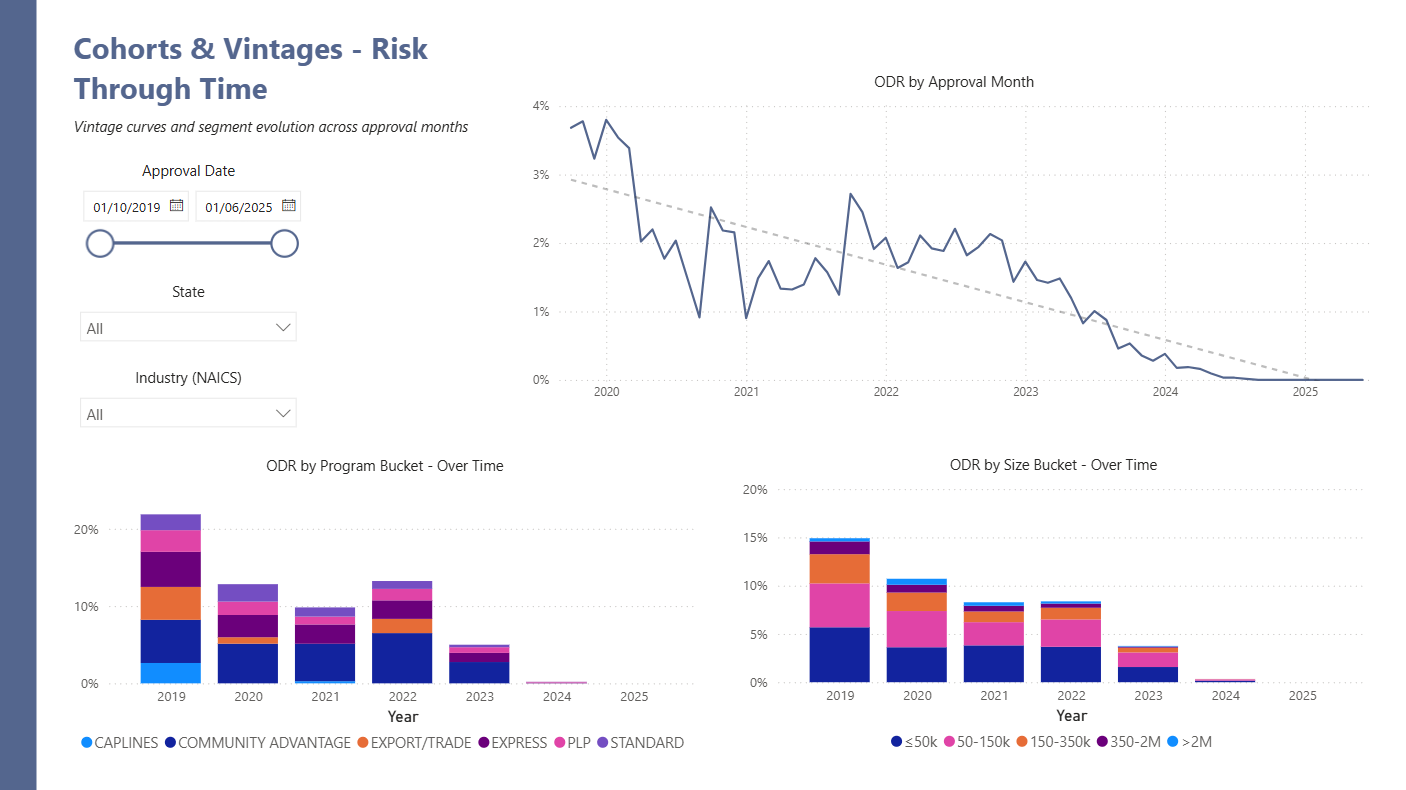

Layout of this report page (visuals, bound fields, positions):
{"tool":"powerbi","page":{"name":"Cohorts / Vintages","canvas":[1280,720],"ordinal":2},"visuals":[{"type":"shape","box":[0,0,35.5,720],"z":0},{"type":"lineChart","title":"ODR by Approval Month","fields":{"Y":["Measure Table.ODR (stable)"],"Category":["fact_loans.approval_ym.Variation.Date Hierarchy.Year","fact_loans.approval_ym.Variation.Date Hierarchy.Month"]},"box":[481.1,66.7,776.7,308.9],"z":1000},{"type":"slicer","title":"Approval Date","fields":{"Values":["fact_loans.approval_ym"]},"box":[64.3,147.6,217.3,109.5],"z":2000},{"type":"slicer","title":"State","fields":{"Values":["fact_loans.project_state"]},"box":[64.3,257.1,217.3,78.8],"z":3000},{"type":"slicer","title":"Industry (NAICS)","fields":{"Values":["fact_loans.naics_code_2"]},"box":[64.3,335.8,217.3,78.8],"z":4000},{"type":"textbox","box":[64,21,378,89],"z":5000},{"type":"textbox","box":[64,102,378,37],"z":6000},{"type":"columnChart","title":"ODR by Size Bucket - Over Time","fields":{"Category":["fact_loans.approval_ym.Variation.Date Hierarchy.Year","fact_loans.approval_ym.Variation.Date Hierarchy.Month"],"Y":["Measure Table.ODR"],"Series":["fact_loans.size_bucket"]},"box":[672.2,414.4,575.6,278.9],"z":7000},{"type":"columnChart","title":"ODR by Program Bucket - Over Time","fields":{"Category":["fact_loans.approval_ym.Variation.Date Hierarchy.Year","fact_loans.approval_ym.Variation.Date Hierarchy.Month"],"Y":["Measure Table.ODR"],"Series":["fact_loans.processing_bucket"]},"box":[64,415,576,279],"z":8000}]}

Visuals, with their boxes in screenshot pixels (x1, y1, x2, y2), scaled from the page's 1280x720 canvas onto the 1406x790 screenshot:
shape: crop(0, 0, 39, 789)
"ODR by Approval Month" lineChart: crop(528, 73, 1382, 412)
"Approval Date" slicer: crop(71, 162, 309, 282)
"State" slicer: crop(71, 282, 309, 369)
"Industry (NAICS)" slicer: crop(71, 368, 309, 455)
textbox: crop(70, 23, 486, 121)
textbox: crop(70, 112, 486, 153)
"ODR by Size Bucket - Over Time" columnChart: crop(738, 455, 1371, 761)
"ODR by Program Bucket - Over Time" columnChart: crop(70, 455, 703, 761)
